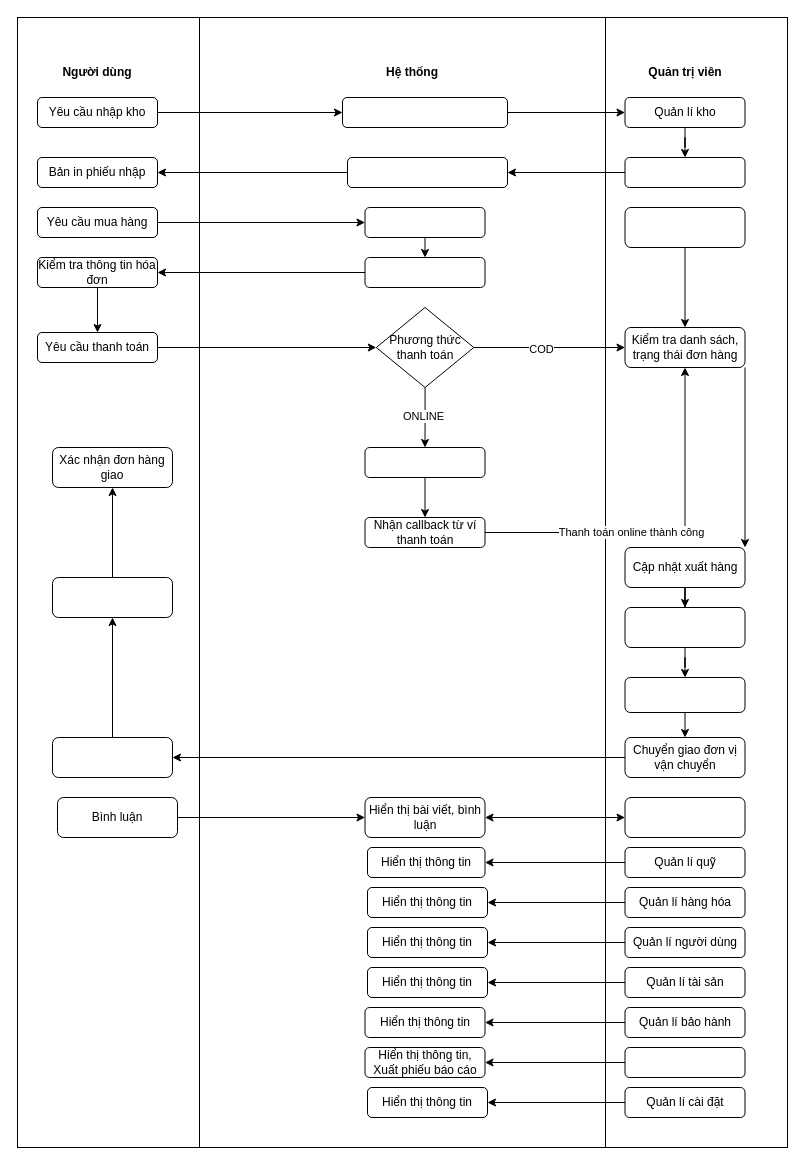
Some shapes in this 805 by 1165 pixel diagram are drawn without their labels. The shapes that lost their labels are listed below. From the top down, each one's centre as x and y in pixels, then its label:
At [425,112]: "Tiếp nhận thông tin nhập kho".
At [427,172]: "Xuất phiếu nhập kho".
At [684,172]: "Cập nhật thông tin kho".
At [424,222]: "Trả danh sách, thông tin sản phẩm".
At [684,227]: "Quản lí bán hàng".
At [424,272]: "Cập nhật, xử lí giỏ hàng".
At [424,462]: "Chuyển hướng đến ví điện tử".
At [112,597]: "Kiểm tra đơn hàng, bảo hành (nếu có)".
At [684,627]: "Kiếm tra thông tin bảo hành (nếu có)".
At [684,694]: "In phiếu xuất hàng".
At [112,757]: "Nhận hàng".
At [684,817]: "Quản lí bài viết, bình luận".
At [684,1062]: "Quản lí báo cáo".
